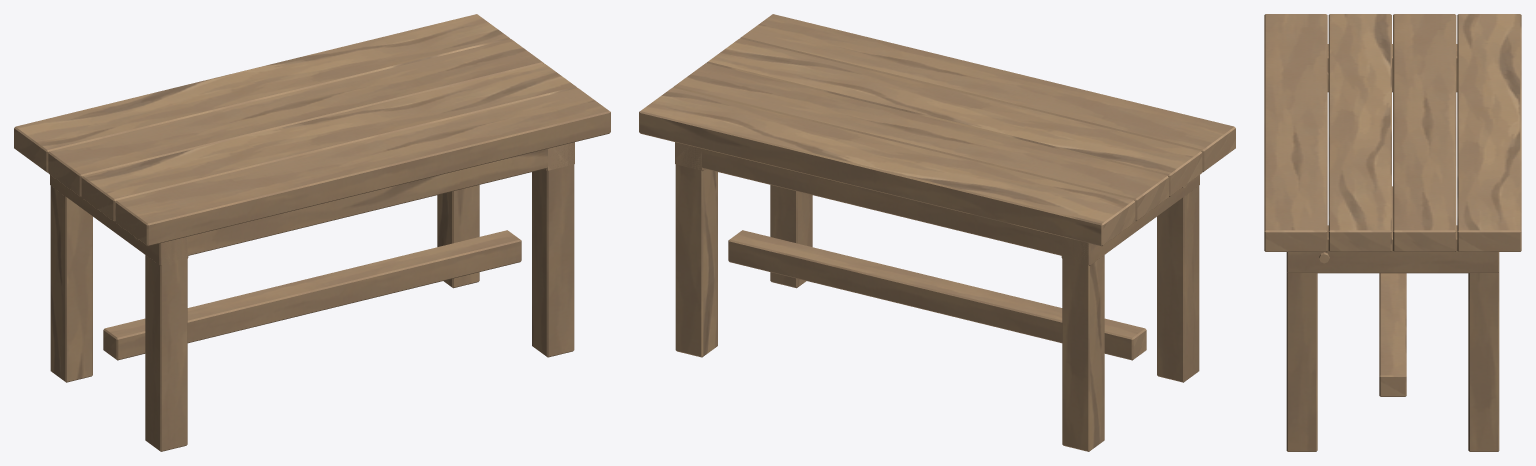
File: F03_pegged_table.fbx
The picture shows the model from 3 angles, left to right: view 1: azimuth 30°, elevation 25°; view 2: azimuth 150°, elevation 25°; view 3: azimuth 270°, elevation 25°; orthographic projection. The views are drawn at different scales.
Visible parts, largest first — view 1: F03_Peggedtable; view 2: F03_Peggedtable; view 3: F03_Peggedtable.
Part boxes in pixels (x1,y1,x2,y2): F03_Peggedtable: (14, 14, 610, 451); F03_Peggedtable: (639, 14, 1235, 451); F03_Peggedtable: (1264, 14, 1521, 451).
Bounding box in the file's own units: 1.5 × 0.75 × 0.75.
